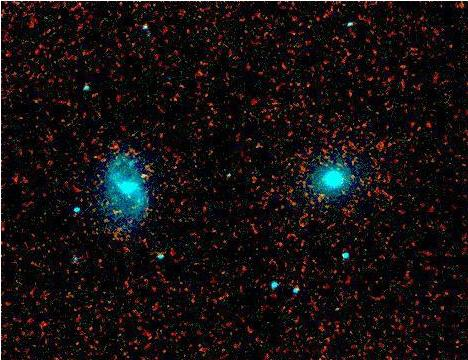star: (130, 161, 160, 191)
